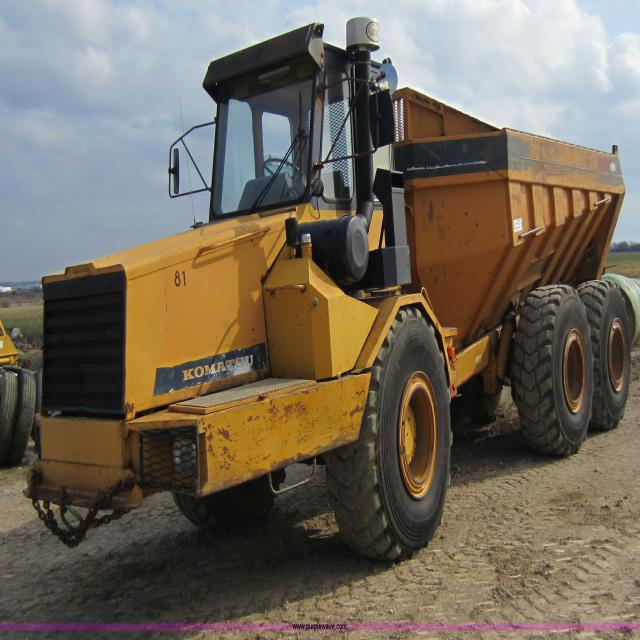dump_truck: (28, 21, 632, 554)
